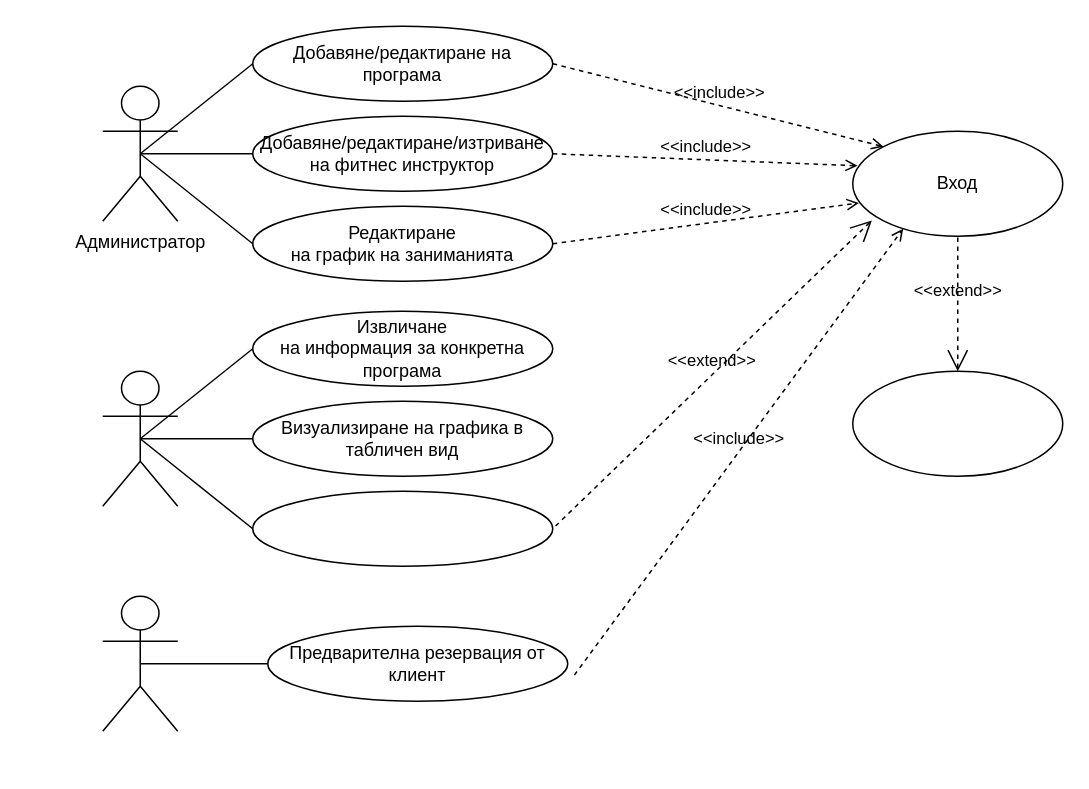
Image size: 1089x789. Some labels were removed from this diagram. Each missing label, with the centre of its shape:
"Клиент" belongs at [139,663].
"Нерегистриран потребител" belongs at [139,438].
"Регистрация" belongs at [957,423].
"Регистрация на клиент" belongs at [402,528].
